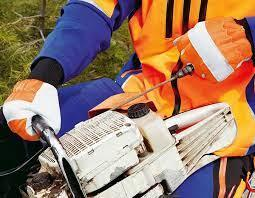gloves: (174, 16, 253, 83), (3, 77, 61, 139)
